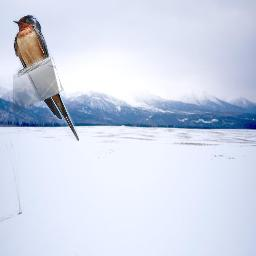Swallow: (13, 14, 79, 141)
